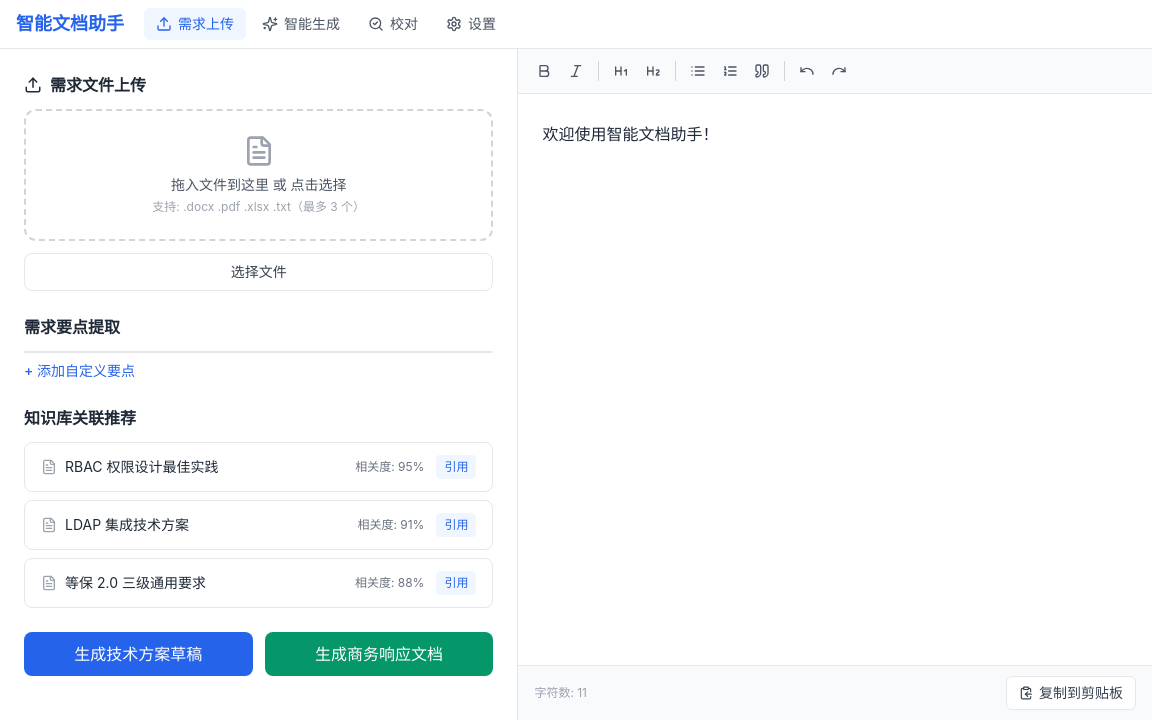
Test: App › switches to settings tab when clicked
Click the button "设置": (471, 24) x1=434 y1=8 x2=508 y2=40
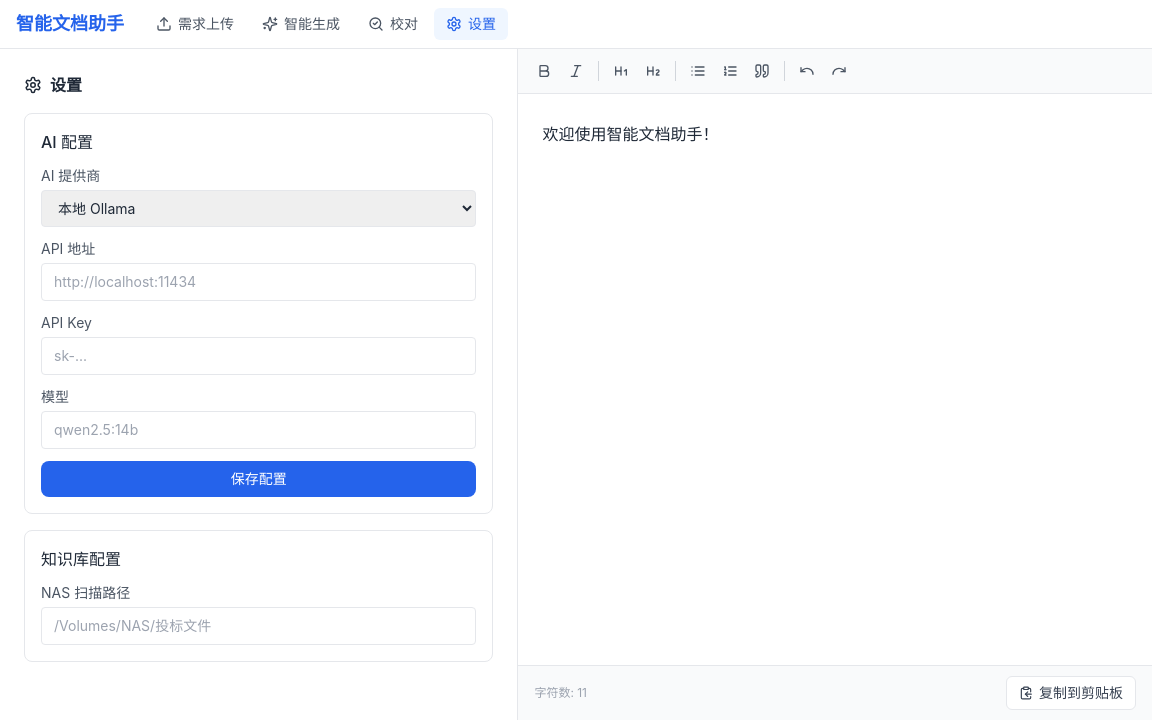
Result: the heading "AI 配置" is shown at x1=41 y1=132 x2=93 y2=152
Result: the field with placeholder "http://localhost:11434" is shown at x1=41 y1=263 x2=476 y2=301
